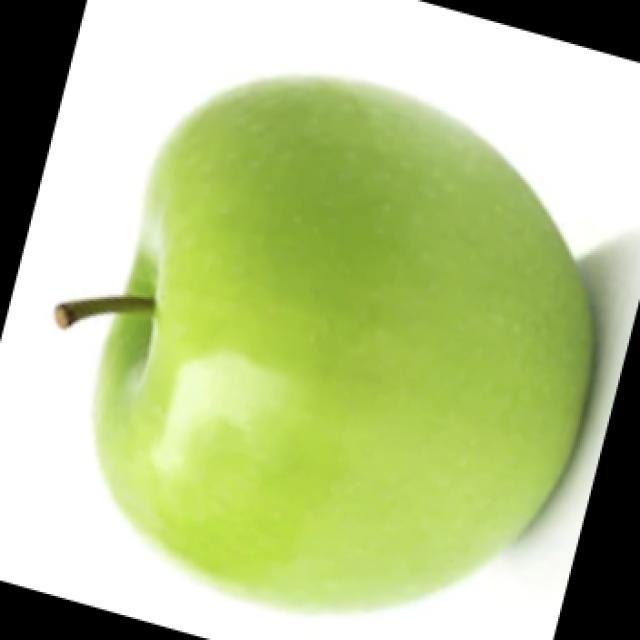Fresh Apple: (113, 87, 597, 603)
